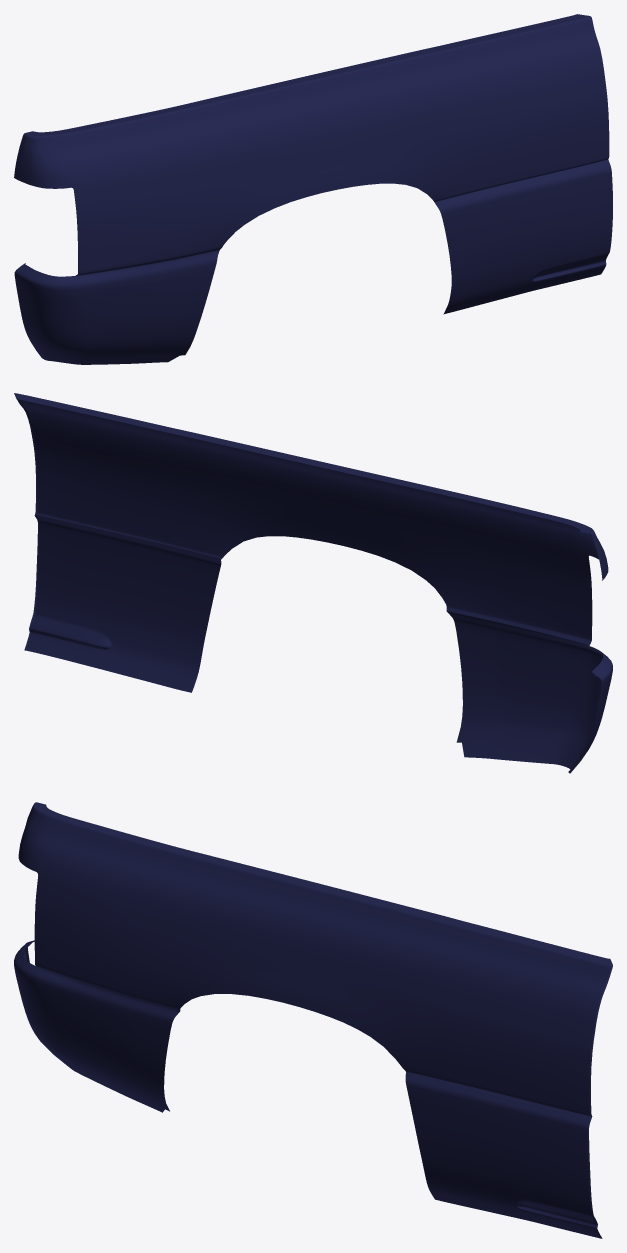
3 renders of one model, top to bottom at view 1: azimuth 30°, elevation 25°; view 2: azimuth 150°, elevation 25°; view 3: azimuth 330°, elevation 25°, orthographic. The views are drawn at different scales.
Parts seen in each view (by area): view 1: U803_3A_38AL_R_1_DaS_U803_3A_38AL_R, U803_3A_38AL_R_1_DaS_U803_3A_38AL_R_E; view 2: U803_3A_38AL_R_1_DaS_U803_3A_38AL_R, U803_3A_38AL_R_1_DaS_U803_3A_38AL_R_E; view 3: U803_3A_38AL_R_1_DaS_U803_3A_38AL_R, U803_3A_38AL_R_1_DaS_U803_3A_38AL_R_E.
Boxes of the visible parts, left/top/right/bottom form: U803_3A_38AL_R_1_DaS_U803_3A_38AL_R: left=14, top=14, right=611, bottom=364; U803_3A_38AL_R_1_DaS_U803_3A_38AL_R_E: left=24, top=14, right=612, bottom=276; U803_3A_38AL_R_1_DaS_U803_3A_38AL_R: left=16, top=393, right=612, bottom=768; U803_3A_38AL_R_1_DaS_U803_3A_38AL_R_E: left=14, top=393, right=603, bottom=773; U803_3A_38AL_R_1_DaS_U803_3A_38AL_R: left=14, top=802, right=610, bottom=1238; U803_3A_38AL_R_1_DaS_U803_3A_38AL_R_E: left=23, top=941, right=612, bottom=1238.
Bounding box in the file's own units: 189 × 83.74 × 20.16.
